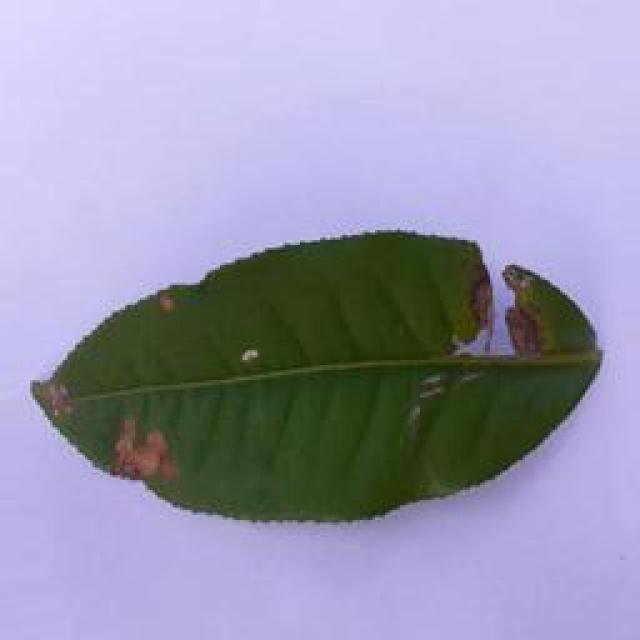Gray Blight: (25, 224, 605, 524)
